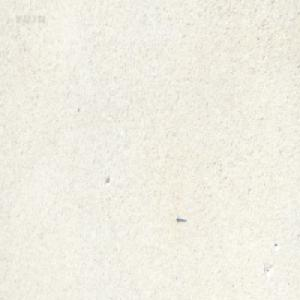Nail: (176, 215, 186, 223)
